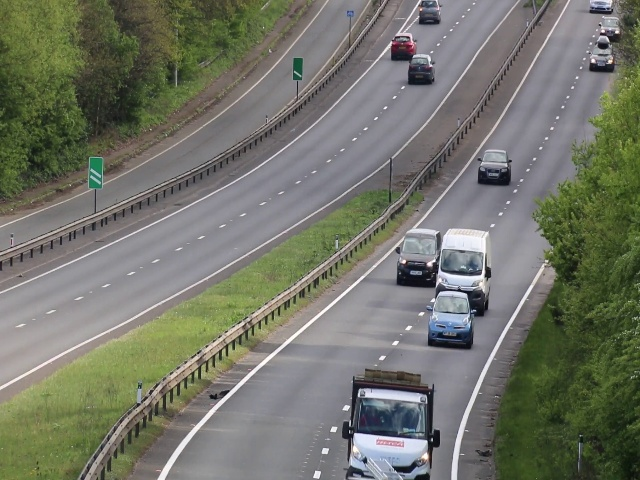car: (346, 392, 429, 480), (428, 295, 475, 348), (396, 230, 436, 289), (439, 249, 481, 290), (478, 149, 511, 184), (408, 51, 434, 85), (589, 40, 614, 68), (390, 33, 414, 60), (417, 1, 441, 23)
